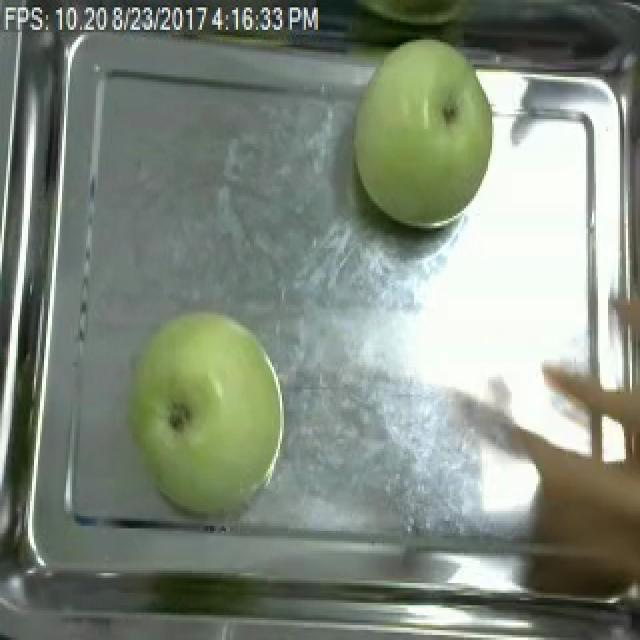50-_ripeness: (125, 307, 286, 516), (358, 39, 496, 239)
